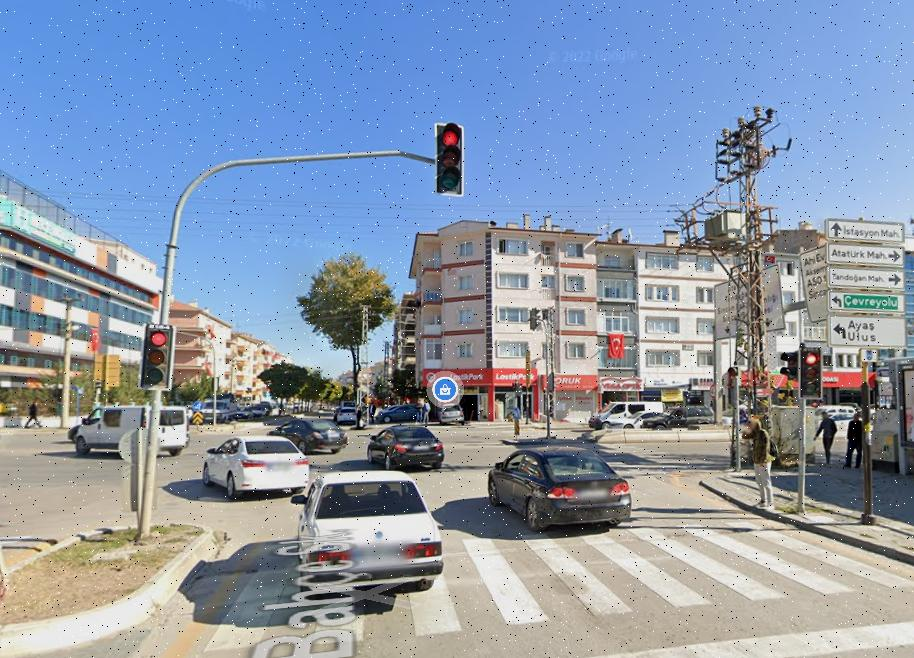redlight: (439, 123, 463, 188), (146, 323, 171, 383), (798, 346, 823, 397)
